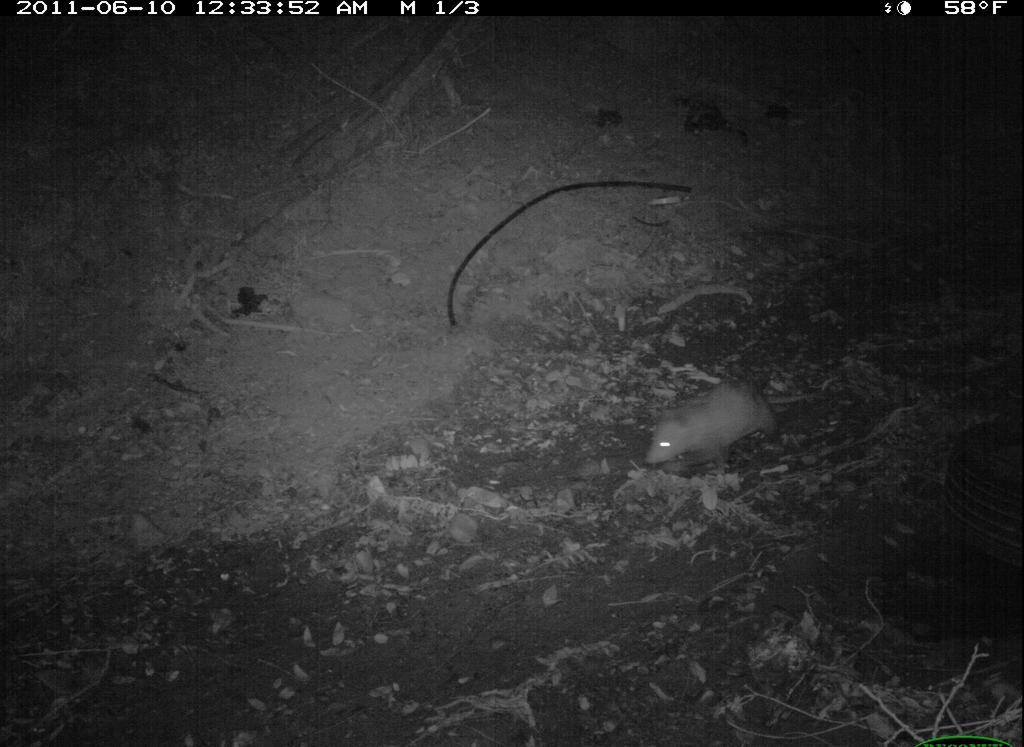opossum: (629, 376, 812, 483)
